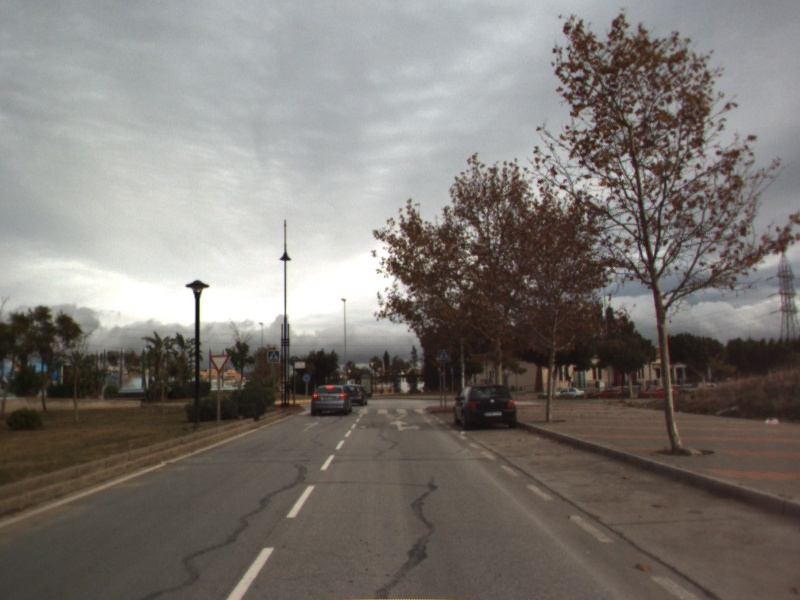STRAIGHT: (301, 420, 323, 433)
STRAIGHT_RIGHT: (387, 418, 423, 433)
